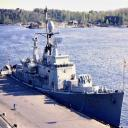Fragata: (10, 8, 127, 128)
